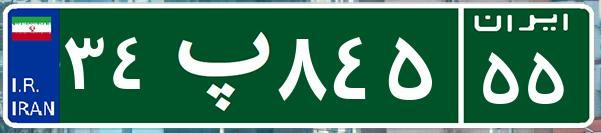3: (57, 26, 110, 107)
4: (330, 28, 385, 110), (110, 28, 158, 105)
5: (385, 28, 445, 110), (475, 38, 525, 113), (525, 38, 570, 115)
8: (273, 28, 330, 110)
پ: (158, 15, 273, 115)
